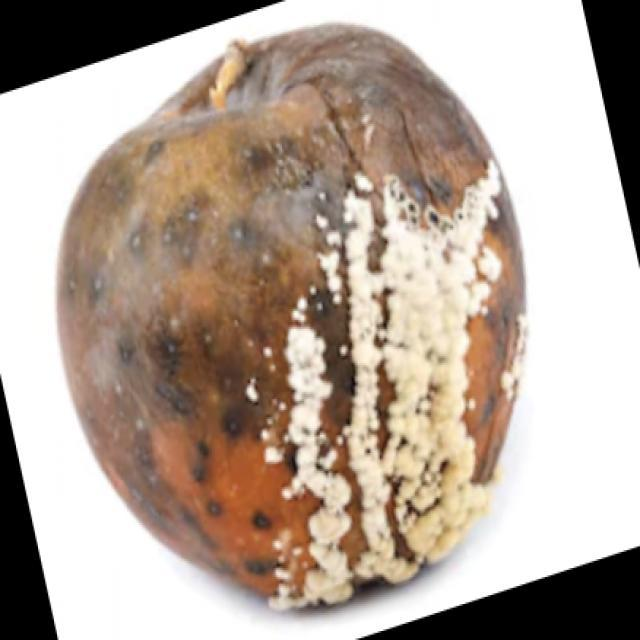Rotten: (41, 32, 526, 605)
